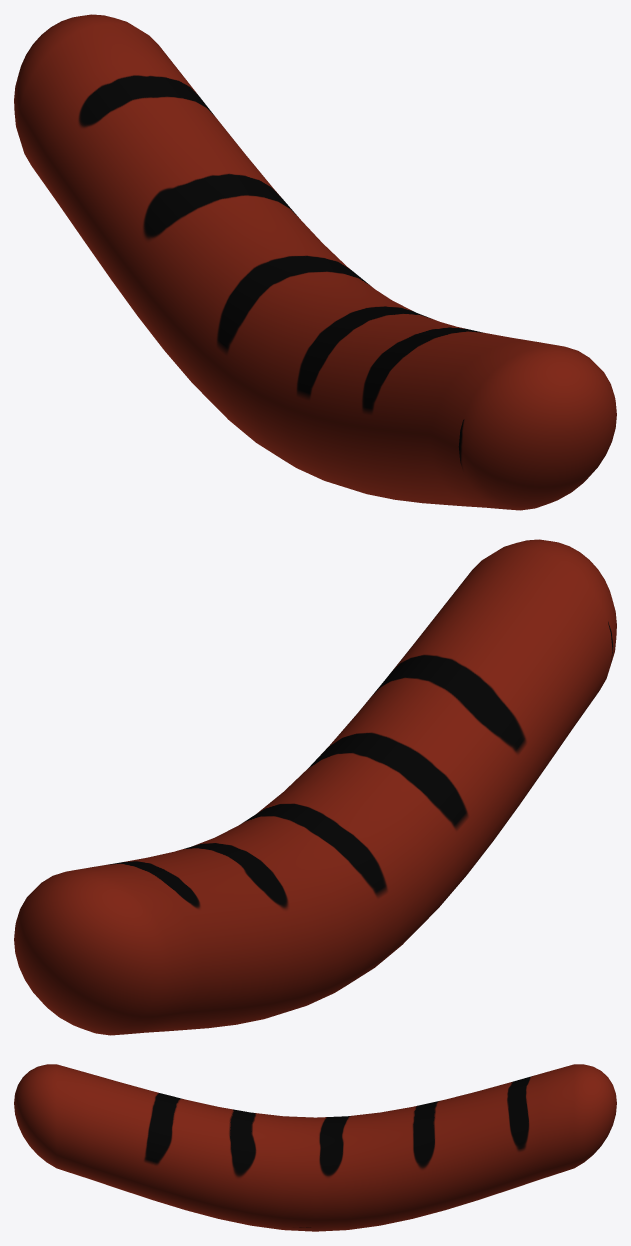
File: sausage_cooked.glb
3 renders of one model, top to bottom at view 1: azimuth 30°, elevation 25°; view 2: azimuth 150°, elevation 25°; view 3: azimuth 270°, elevation 25°, orthographic. The views are drawn at different scales.
Visible parts, largest first — view 1: Sphere; view 2: Sphere; view 3: Sphere.
Part boxes in pixels (x1,y1,x2,y2): Sphere: (14, 14, 616, 510); Sphere: (14, 539, 616, 1035); Sphere: (14, 1064, 616, 1231).
Bounding box in the file's own units: 0.2149 × 0.3267 × 1.13.
Materials: 1 (1 with a texture image).
